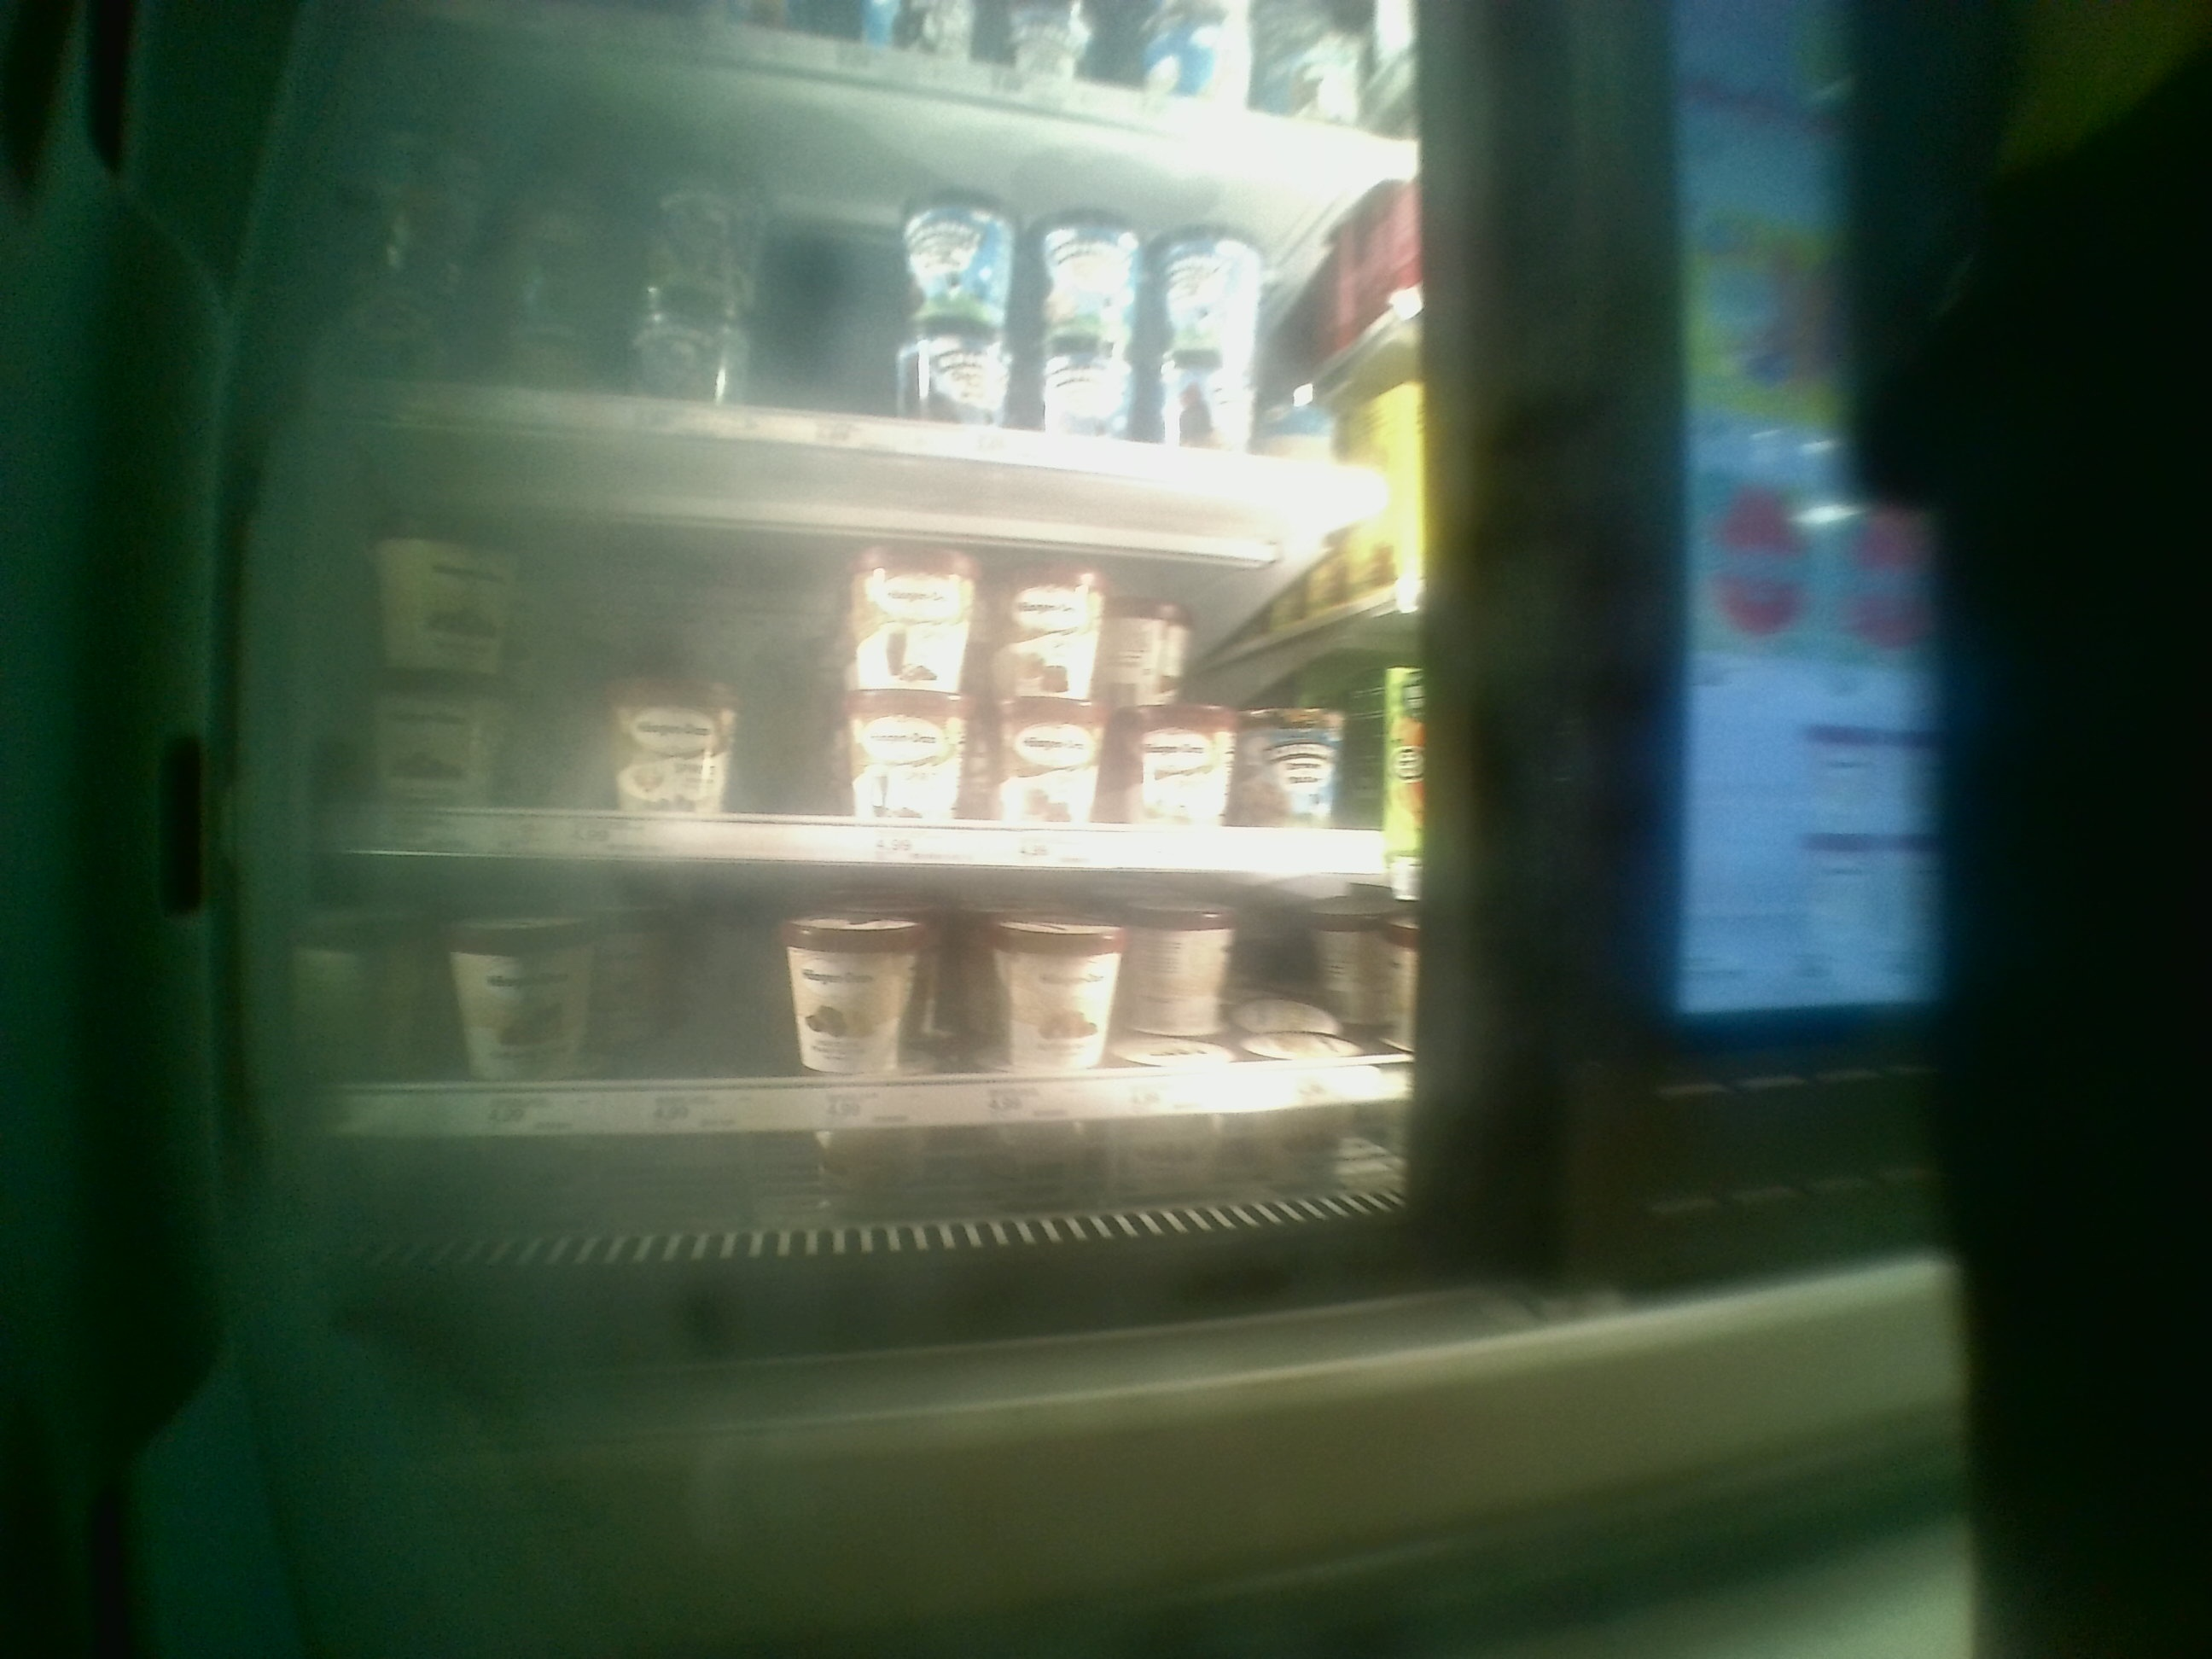shelf: (315, 408, 1399, 868), (315, 857, 1425, 1206)
